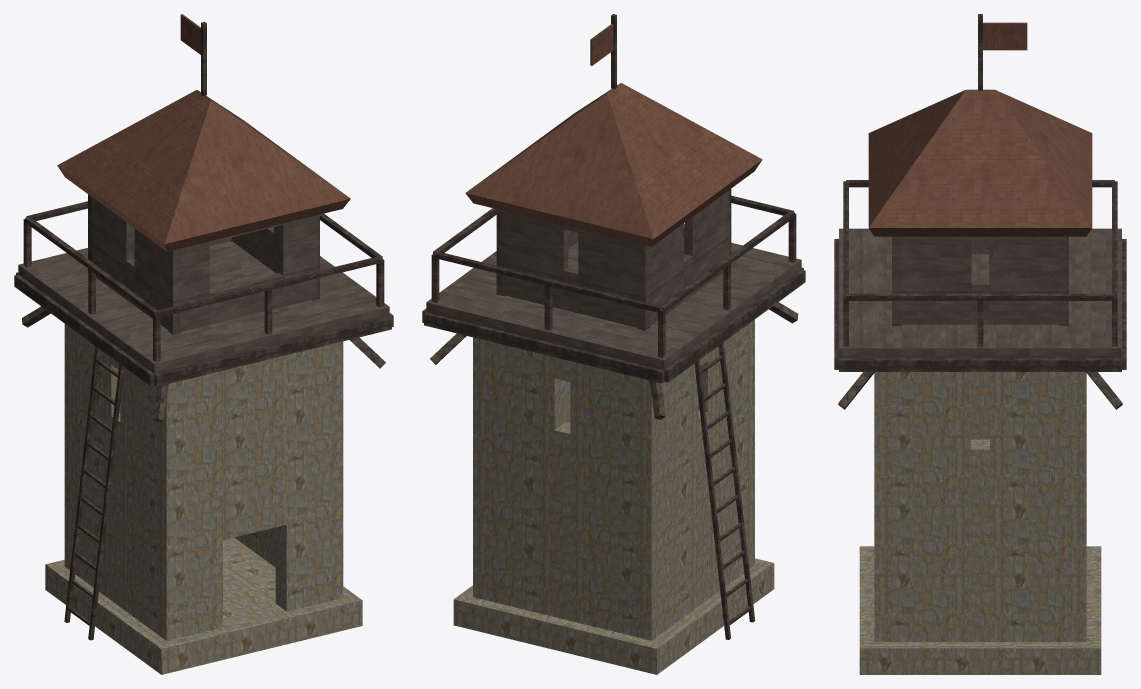
The model's file is prop_watchtower.glb.
The picture shows the model from 3 angles, left to right: view 1: azimuth 30°, elevation 25°; view 2: azimuth 150°, elevation 25°; view 3: azimuth 270°, elevation 25°; orthographic projection. The views are drawn at different scales.
Visible parts, largest first — view 1: prop_watchtower; view 2: prop_watchtower; view 3: prop_watchtower.
Part boxes in pixels (x1,y1,x2,y2): prop_watchtower: (14, 14, 393, 674); prop_watchtower: (422, 14, 805, 674); prop_watchtower: (834, 14, 1126, 674).
Bounding box in the file's own units: 5.06 × 11.4 × 4.96.
Materials: 4 (4 with a texture image).
